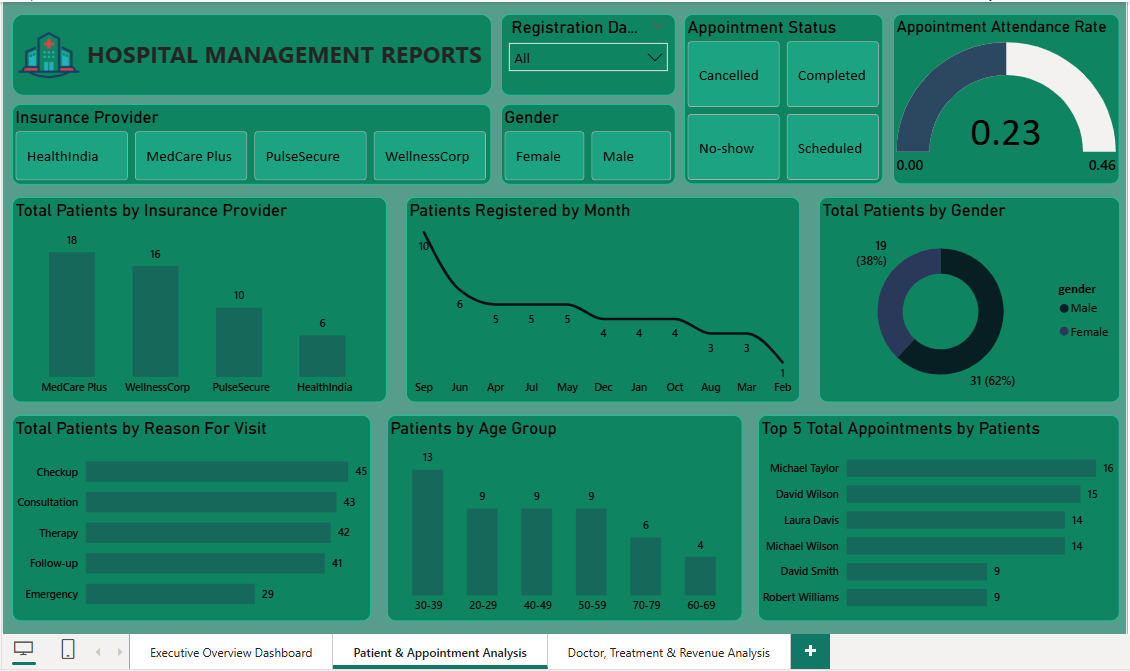

This screenshot's page, from the dashboard's own definition file:
{"tool":"powerbi","page":{"name":"Patient & Appointment Analysis","canvas":[1280,720],"ordinal":1},"visuals":[{"type":"shape","box":[10.6,13.3,546.9,93.1],"z":0,"group":"g1"},{"type":"donutChart","title":"Total Patients by Gender","fields":{"Category":["Patients.gender"],"Y":["Measures_Table.Total Patients"]},"box":[929.1,222,342.9,233.9],"z":0},{"type":"textbox","box":[84.5,35,473,49.7],"z":1000,"group":"g1"},{"type":"columnChart","title":"Patients by Age Group","fields":{"Y":["Measures_Table.Total Patients"],"Category":["Patients.Age_Group"]},"box":[437.3,470.4,405.4,234.6],"z":1000},{"type":"image","box":[10.6,22.2,84.1,75.2],"z":2000,"group":"g1"},{"type":"columnChart","title":"Total Patients by Insurance Provider","fields":{"Y":["Measures_Table.Total Patients"],"Category":["Patients.insurance_provider"]},"box":[10.6,222,426.7,233.9],"z":2000},{"type":"barChart","title":"Total Patients by Reason For Visit","fields":{"Y":["Measures_Table.Total Appointments"],"Category":["Appointments.reason_for_visit"]},"box":[10.2,470.4,409.2,234.6],"z":3000},{"type":"advancedSlicerVisual","title":"Insurance Provider","fields":{"Values":["Patients.insurance_provider"]},"box":[10.6,115.6,546.3,91.7],"z":4000},{"type":"advancedSlicerVisual","title":"Appointment Status","fields":{"Values":["Appointments.status"]},"box":[776.2,13.3,227.3,194.1],"z":5000},{"type":"slicer","fields":{"Values":["Patients.registration_date"]},"box":[567.6,13.3,199.4,93],"z":6000},{"type":"advancedSlicerVisual","title":"Gender","fields":{"Values":["Patients.gender"]},"box":[567.6,115.6,199.4,91.7],"z":7000},{"type":"gauge","title":"Appointment Attendance Rate","fields":{"Y":["Measures_Table.Attendance Rate"]},"box":[1014.2,13.3,257.9,194.1],"z":8000},{"type":"lineChart","title":"Patients Registered by Month","fields":{"Category":["Patients.Month"],"Y":["Measures_Table.Total Patients"]},"box":[458.6,222,449.3,233.9],"z":9000},{"type":"barChart","title":"Top 5 Total Appointments by Patients","fields":{"Category":["Patients.Full_Name"],"Y":["Measures_Table.Total Appointments"]},"box":[860.6,470.4,411.8,234.6],"z":10000},{"type":"group","id":"g1","title":"Group 1","box":[10.6,13.3,547.6,93],"z":11000}]}

Visuals, with their boxes on the page's 1280x720 design canvas (x1, y1, x2, y2). These are canvas units, not pixel positions in the 1130x671 screenshot, which may show the page scaled, cropped or inside an application window:
shape: bbox(11, 13, 558, 106)
"Total Patients by Gender" donutChart: bbox(929, 222, 1272, 456)
textbox: bbox(84, 35, 558, 85)
"Patients by Age Group" columnChart: bbox(437, 470, 843, 705)
image: bbox(11, 22, 95, 97)
"Total Patients by Insurance Provider" columnChart: bbox(11, 222, 437, 456)
"Total Patients by Reason For Visit" barChart: bbox(10, 470, 419, 705)
"Insurance Provider" advancedSlicerVisual: bbox(11, 116, 557, 207)
"Appointment Status" advancedSlicerVisual: bbox(776, 13, 1004, 207)
slicer - Patients.registration_date: bbox(568, 13, 767, 106)
"Gender" advancedSlicerVisual: bbox(568, 116, 767, 207)
"Appointment Attendance Rate" gauge: bbox(1014, 13, 1272, 207)
"Patients Registered by Month" lineChart: bbox(459, 222, 908, 456)
"Top 5 Total Appointments by Patients" barChart: bbox(861, 470, 1272, 705)
"Group 1" group: bbox(11, 13, 558, 106)
